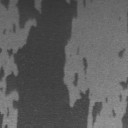red iron: (0, 0, 108, 128), (118, 94, 128, 128), (82, 58, 88, 80), (120, 78, 128, 89), (72, 72, 78, 86), (0, 0, 10, 8), (118, 48, 126, 58), (76, 46, 80, 55), (112, 110, 116, 117), (0, 46, 2, 53)
